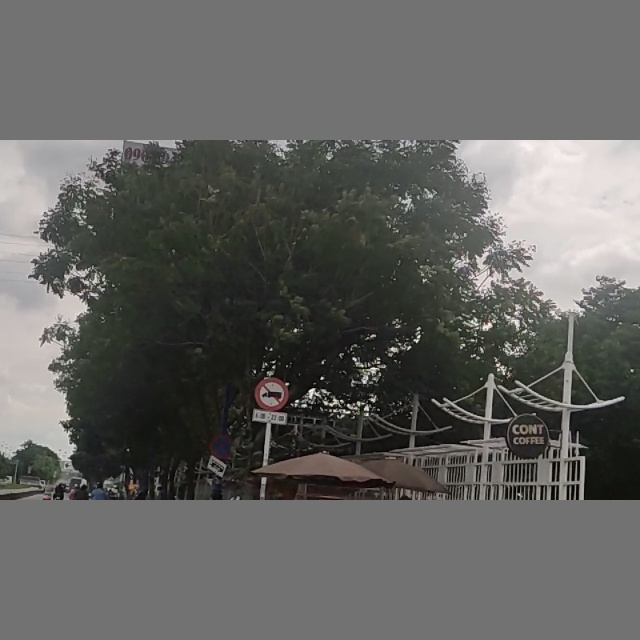B.8a: (255, 379, 286, 422)
